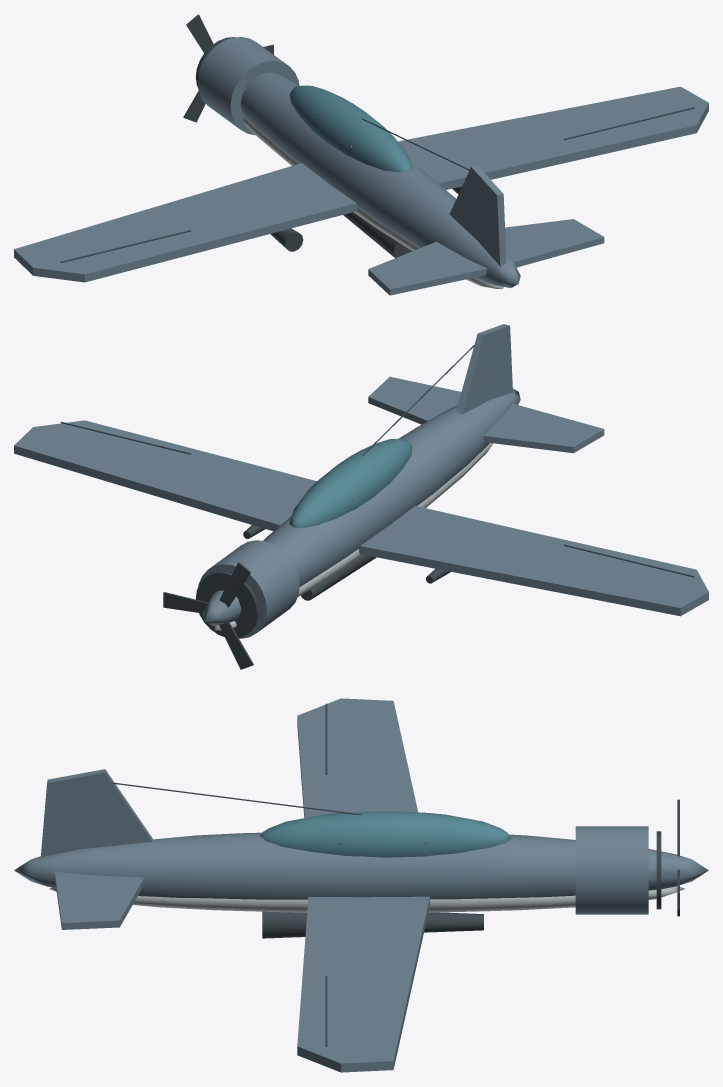
File: generic-ww2-torpedo.glb
3 renders of one model, top to bottom at view 1: azimuth 30°, elevation 25°; view 2: azimuth 150°, elevation 25°; view 3: azimuth 270°, elevation 25°, orthographic. The views are drawn at different scales.
Visible parts, largest first — view 1: ww2-torpedo_StraightWing, ww2-torpedo_StraightWing.001, ww2-torpedo_PistonFuselage, ww2-torpedo_Canopy, ww2-torpedo_RadialEngine, ww2-torpedo_HorizontalTail, ww2-torpedo_SingleVerticalTail, ww2-torpedo_HorizontalTail.001, ww2-torpedo_PaleUnderside, ww2-torpedo_Propeller, ww2-torpedo_AerialTorpedo, ww2-torpedo_ExternalBomb; view 2: ww2-torpedo_StraightWing, ww2-torpedo_StraightWing.001, ww2-torpedo_PistonFuselage, ww2-torpedo_Canopy, ww2-torpedo_RadialEngine, ww2-torpedo_HorizontalTail, ww2-torpedo_SingleVerticalTail, ww2-torpedo_HorizontalTail.001, ww2-torpedo_Propeller, ww2-torpedo_EngineOpening, ww2-torpedo_PaleUnderside, ww2-torpedo_AerialTorpedo; view 3: ww2-torpedo_PistonFuselage, ww2-torpedo_StraightWing.001, ww2-torpedo_StraightWing, ww2-torpedo_Canopy, ww2-torpedo_SingleVerticalTail, ww2-torpedo_RadialEngine, ww2-torpedo_PaleUnderside, ww2-torpedo_HorizontalTail.001, ww2-torpedo_AerialTorpedo.
Boxes of the visible parts, box(x1,y1,x2,y2) form: ww2-torpedo_StraightWing: box(14, 163, 357, 282); ww2-torpedo_StraightWing.001: box(398, 86, 708, 189); ww2-torpedo_PistonFuselage: box(240, 72, 520, 287); ww2-torpedo_Canopy: box(289, 85, 412, 172); ww2-torpedo_RadialEngine: box(197, 37, 299, 134); ww2-torpedo_HorizontalTail: box(368, 241, 487, 295); ww2-torpedo_SingleVerticalTail: box(449, 165, 506, 266); ww2-torpedo_HorizontalTail.001: box(505, 219, 604, 267); ww2-torpedo_PaleUnderside: box(243, 116, 503, 288); ww2-torpedo_Propeller: box(183, 14, 273, 122); ww2-torpedo_AerialTorpedo: box(343, 212, 412, 258); ww2-torpedo_ExternalBomb: box(270, 228, 303, 251); ww2-torpedo_StraightWing: box(358, 506, 708, 616); ww2-torpedo_StraightWing.001: box(14, 420, 316, 531); ww2-torpedo_PistonFuselage: box(203, 388, 520, 625); ww2-torpedo_Canopy: box(289, 438, 412, 527); ww2-torpedo_RadialEngine: box(198, 540, 299, 638); ww2-torpedo_HorizontalTail: box(483, 403, 604, 453); ww2-torpedo_SingleVerticalTail: box(456, 324, 512, 414); ww2-torpedo_HorizontalTail.001: box(368, 376, 461, 424); ww2-torpedo_Propeller: box(163, 562, 253, 669); ww2-torpedo_EngineOpening: box(195, 571, 258, 637); ww2-torpedo_PaleUnderside: box(214, 443, 493, 630); ww2-torpedo_AerialTorpedo: box(301, 555, 376, 600); ww2-torpedo_PistonFuselage: box(14, 832, 708, 899); ww2-torpedo_StraightWing.001: box(297, 896, 429, 1072); ww2-torpedo_StraightWing: box(297, 698, 417, 817); ww2-torpedo_Canopy: box(260, 811, 511, 857); ww2-torpedo_SingleVerticalTail: box(41, 769, 153, 857); ww2-torpedo_RadialEngine: box(575, 826, 648, 914); ww2-torpedo_PaleUnderside: box(49, 886, 685, 912); ww2-torpedo_HorizontalTail.001: box(55, 872, 144, 929); ww2-torpedo_AerialTorpedo: box(262, 911, 483, 938).
Bounding box in the file's own units: 14.8 × 3.11 × 11.9.
